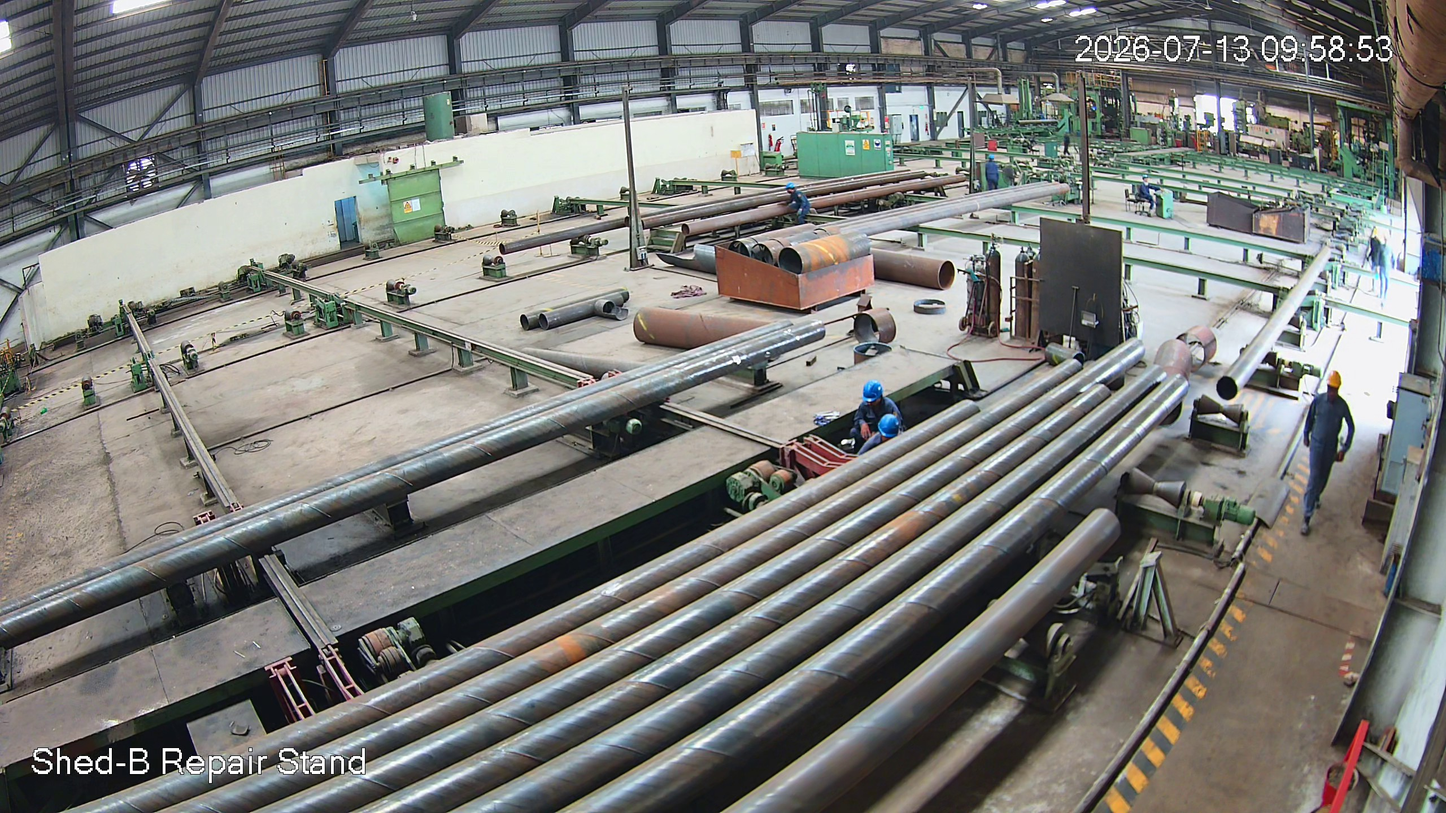Helmet: (1323, 369, 1351, 407), (860, 377, 894, 405)
Person: (1293, 371, 1354, 539), (849, 380, 917, 451)
